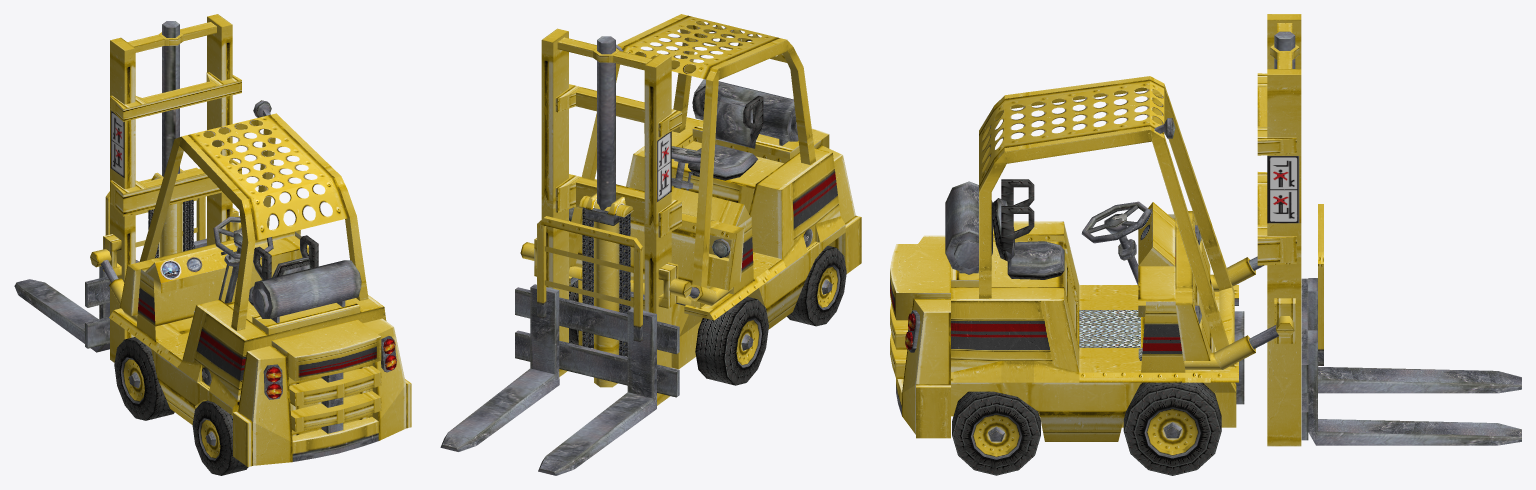
Rendered from Model_Misc_Forklift.fbx.
The picture shows the model from 3 angles, left to right: view 1: azimuth 30°, elevation 25°; view 2: azimuth 150°, elevation 25°; view 3: azimuth 270°, elevation 25°; orthographic projection. The views are drawn at different scales.
Visible parts, largest first — view 1: Car_Body, Car_Body_Lift_Frame, Car_Body_Lift, LF_Wheel, LB_Wheel; view 2: Car_Body, Car_Body_Lift_Frame, Car_Body_Lift, LF_Wheel, LB_Wheel; view 3: Car_Body, Car_Body_Lift_Frame, Car_Body_Lift, RF_Wheel, RB_Wheel.
Part boxes in pixels (box(x1,y1,x2,y2)): Car_Body: box(90, 100, 411, 466); Car_Body_Lift_Frame: box(103, 14, 241, 362); Car_Body_Lift: box(14, 167, 206, 352); LF_Wheel: box(114, 337, 174, 420); LB_Wheel: box(192, 400, 248, 475); Car_Body: box(520, 14, 861, 369); Car_Body_Lift_Frame: box(534, 28, 681, 405); Car_Body_Lift: box(440, 216, 679, 475); LF_Wheel: box(695, 296, 768, 385); LB_Wheel: box(787, 245, 846, 326); Car_Body: box(890, 76, 1294, 441); Car_Body_Lift_Frame: box(1257, 14, 1301, 446); Car_Body_Lift: box(1301, 204, 1521, 445); RF_Wheel: box(1123, 382, 1221, 475); RB_Wheel: box(952, 391, 1040, 475).
Bounding box in the file's own units: 140 × 258 × 375.
Materials: 3 (3 with a texture image).
